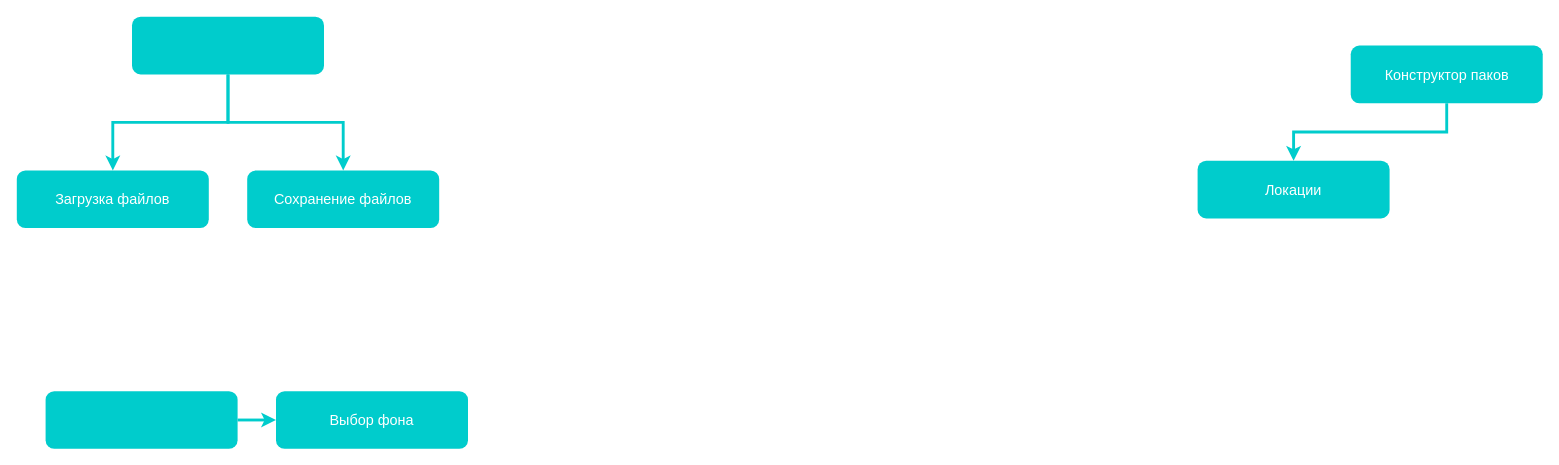
Some shapes in this 1559 by 465 pixel diagram are drawn without their labels. The shapes that lost their labels are listed below. From the top down, each one's centre as x and y in pixels, then its label:
the point at 228,45: FileManager
the point at 141,419: Создание локации
